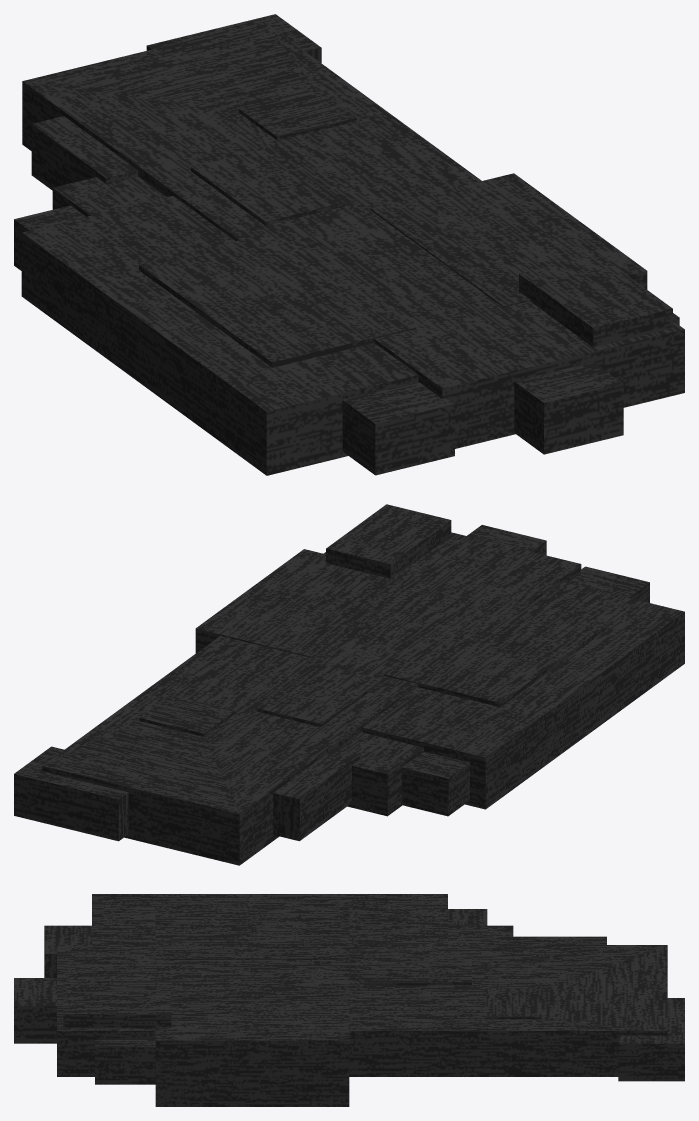
File: plat_hor1.fbx
The picture shows the model from 3 angles, top to bottom: view 1: azimuth 30°, elevation 25°; view 2: azimuth 150°, elevation 25°; view 3: azimuth 270°, elevation 25°; orthographic projection. The views are drawn at different scales.
Visible parts, largest first — view 1: Cube.010; view 2: Cube.010; view 3: Cube.010.
Boxes of the visible parts, x1,y1,x2,y2 form: Cube.010: [14, 14, 684, 475]; Cube.010: [14, 504, 684, 865]; Cube.010: [14, 894, 684, 1106].
Size of the model in its own units: 1400 by 344 by 2637.
